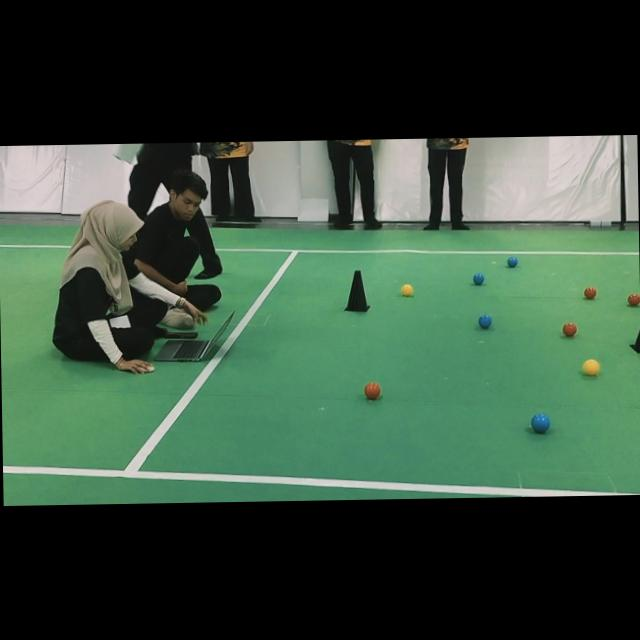ball: (531, 412, 549, 432), (582, 359, 600, 375), (364, 382, 381, 398), (561, 322, 578, 336), (478, 313, 491, 328), (583, 286, 597, 299), (627, 293, 640, 306), (401, 283, 413, 296), (473, 272, 484, 285), (507, 257, 518, 266)
